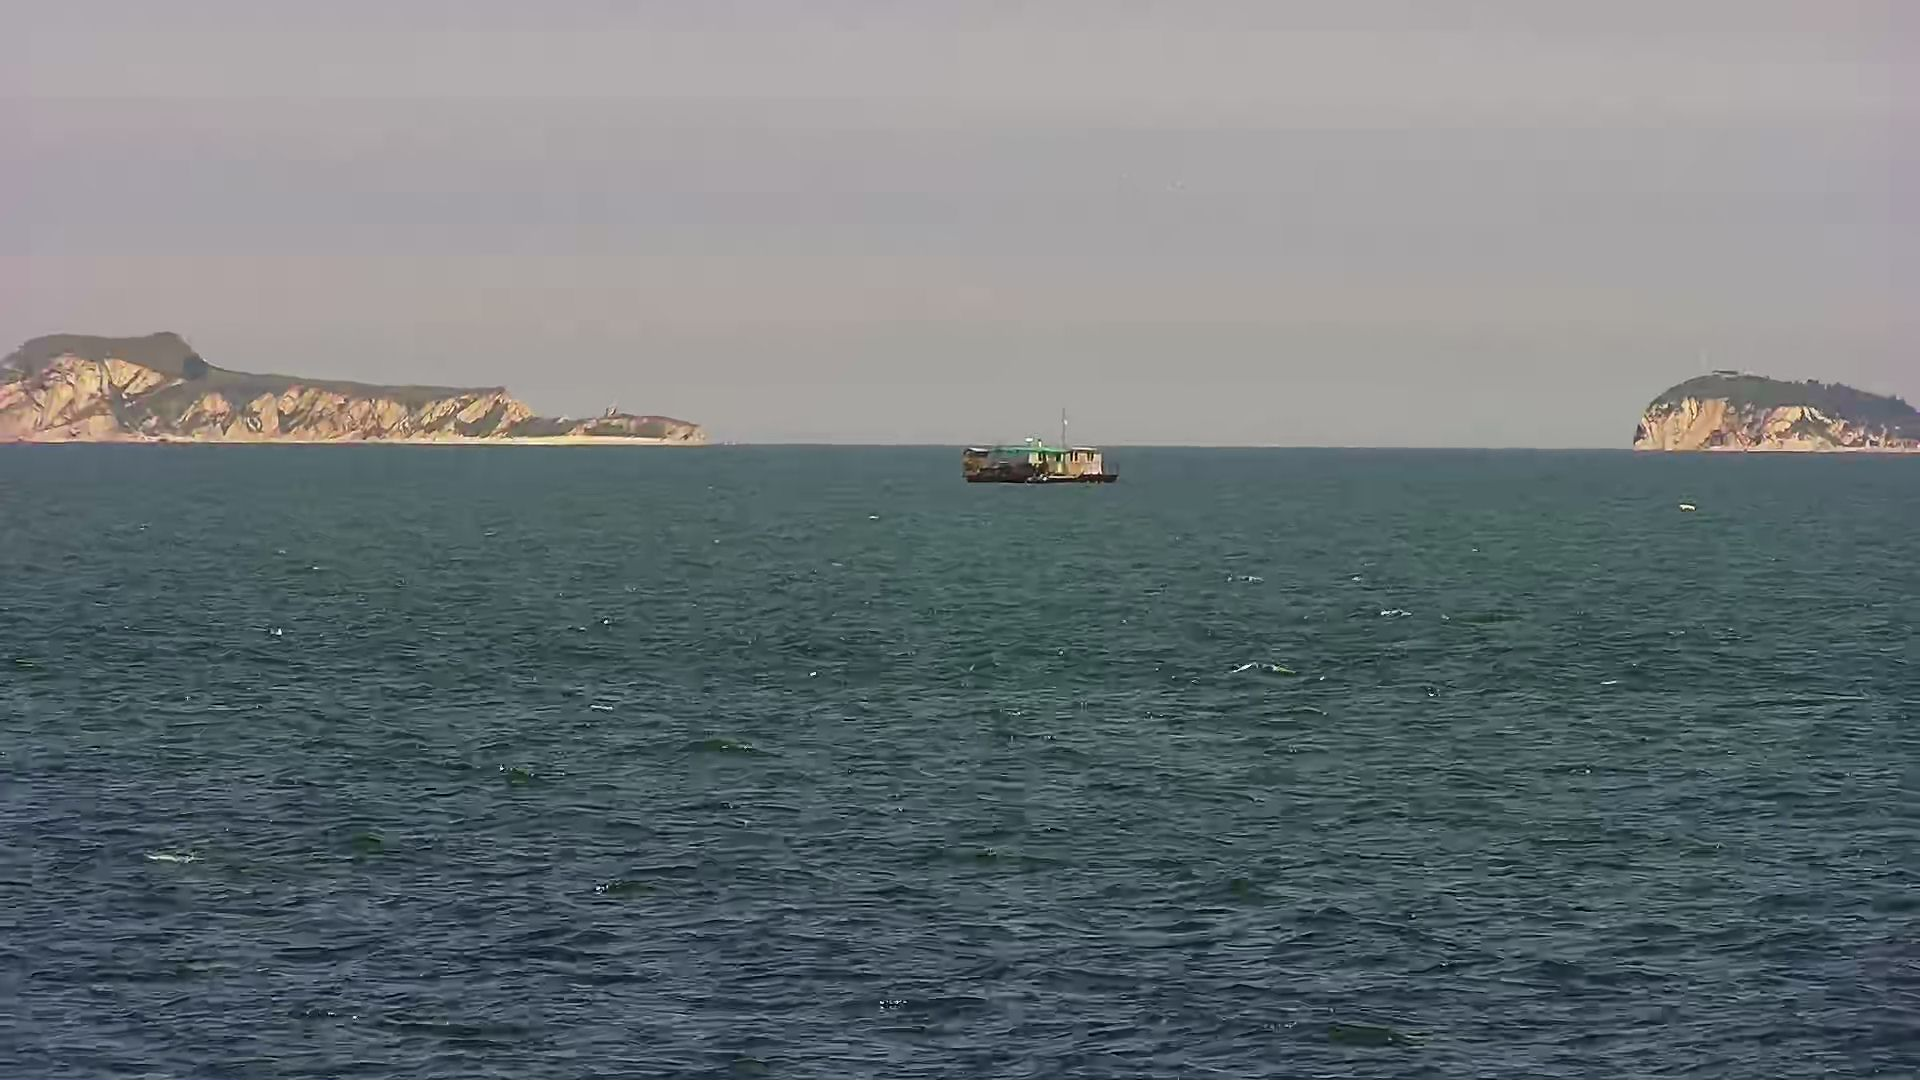platform: (924, 396, 1130, 488)
rock: (1, 323, 728, 448), (1586, 349, 1920, 448)
